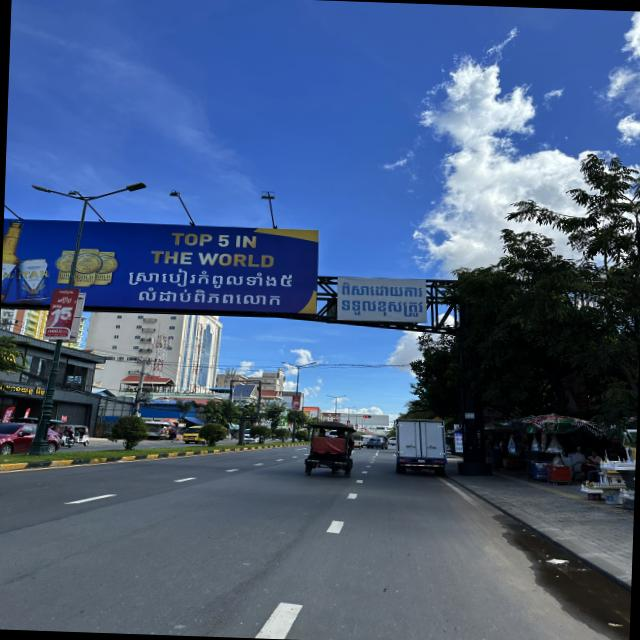Yolov11kh: (122, 266, 301, 292), (133, 289, 284, 310), (332, 295, 427, 321), (337, 279, 423, 301)
